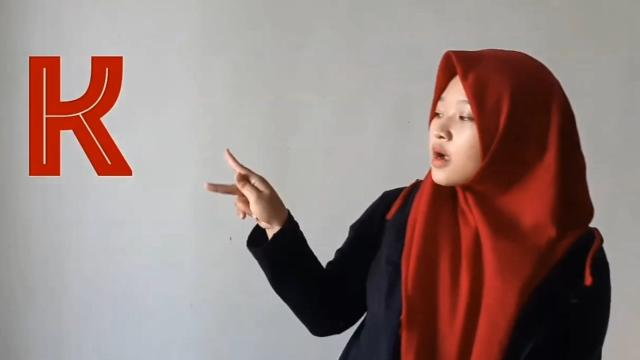K: (196, 144, 290, 234)
